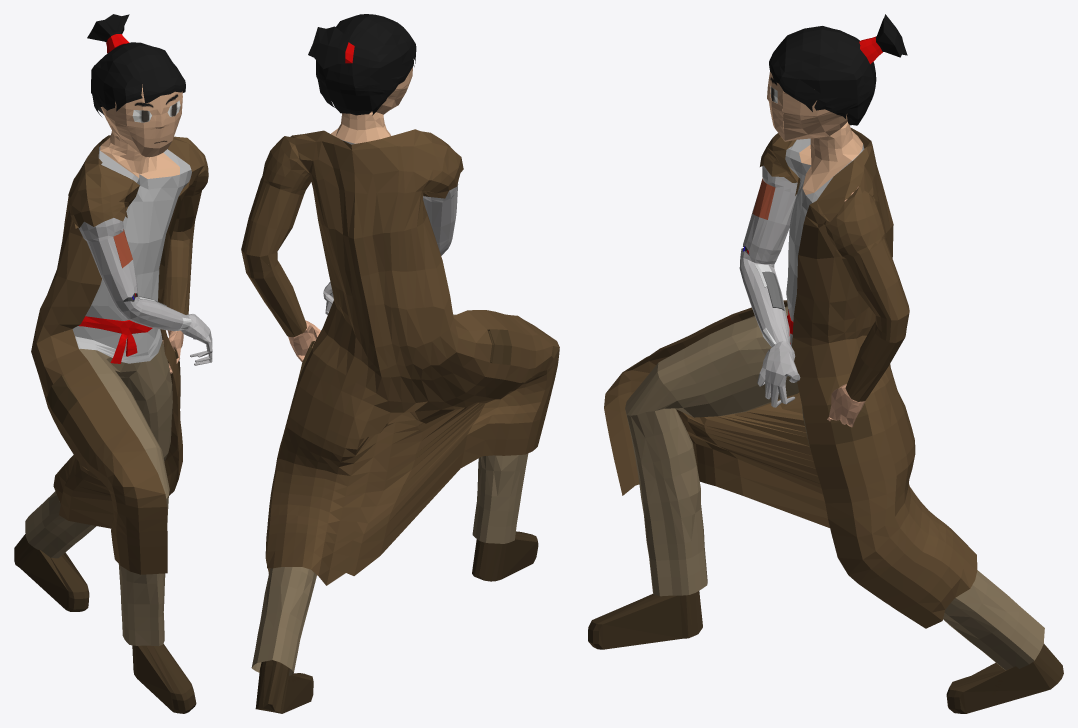
File: One_RR_000022.obj
The picture shows the model from 3 angles, left to right: view 1: azimuth 30°, elevation 25°; view 2: azimuth 150°, elevation 25°; view 3: azimuth 270°, elevation 25°; orthographic projection. The views are drawn at different scales.
Visible parts, largest first — view 1: Hair_Cube.004; view 2: Hair_Cube.004; view 3: Hair_Cube.004.
Part boxes in pixels (left/top/right/bottom): Hair_Cube.004: left=14, top=14, right=212, bottom=713; Hair_Cube.004: left=241, top=14, right=559, bottom=713; Hair_Cube.004: left=588, top=14, right=1063, bottom=713.
Size of the model in its own units: 1.2 by 3.63 by 2.26.
